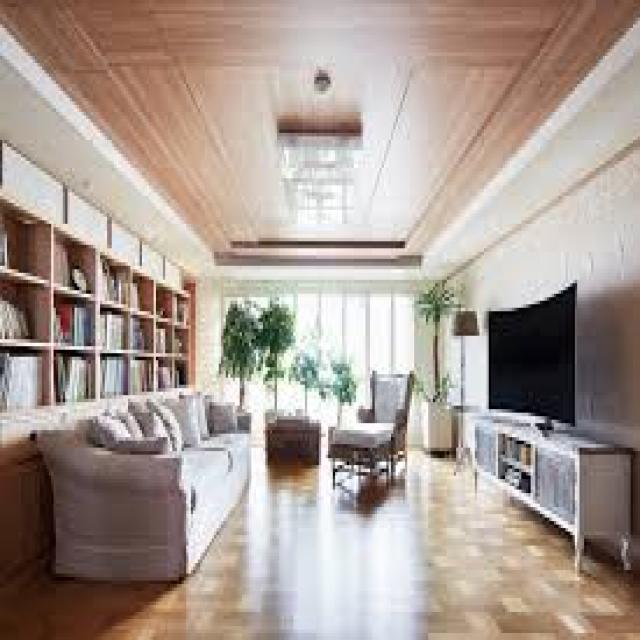Chair: (330, 366, 420, 492)
Sofa: (44, 384, 252, 582)
tv: (484, 284, 582, 434)
window: (214, 274, 438, 374)
